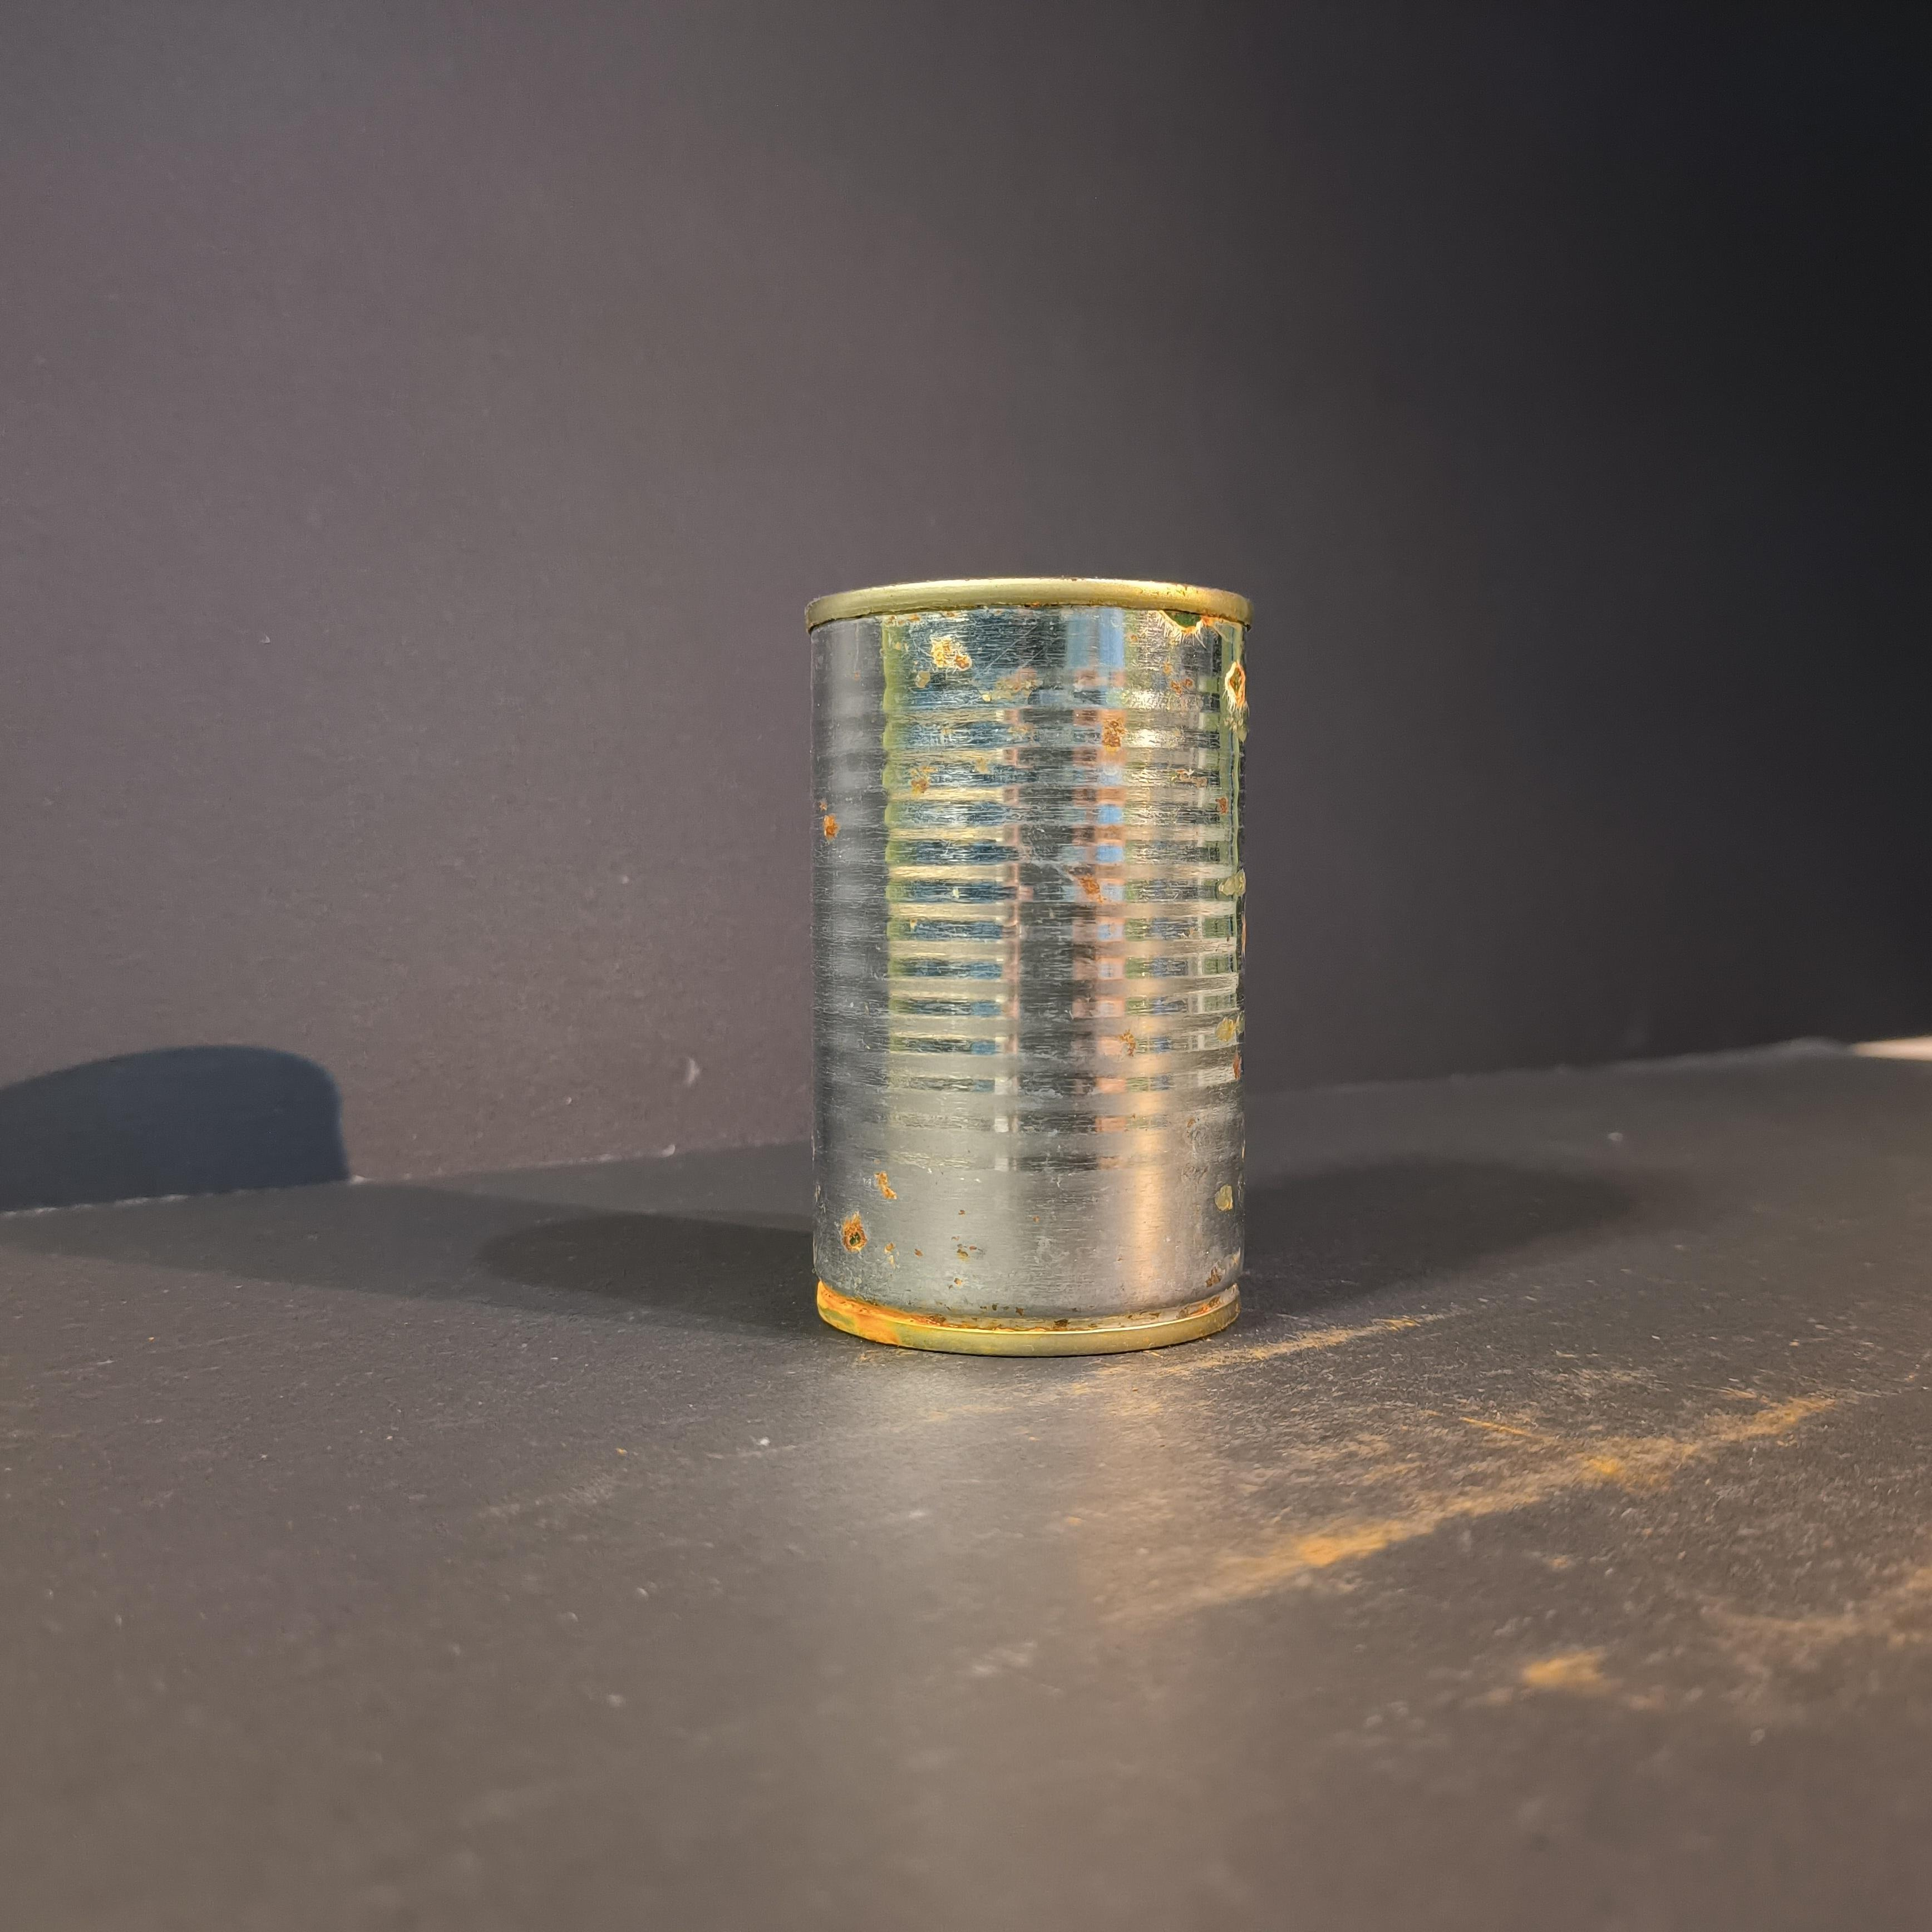Rusted: (778, 557, 1272, 1405)
